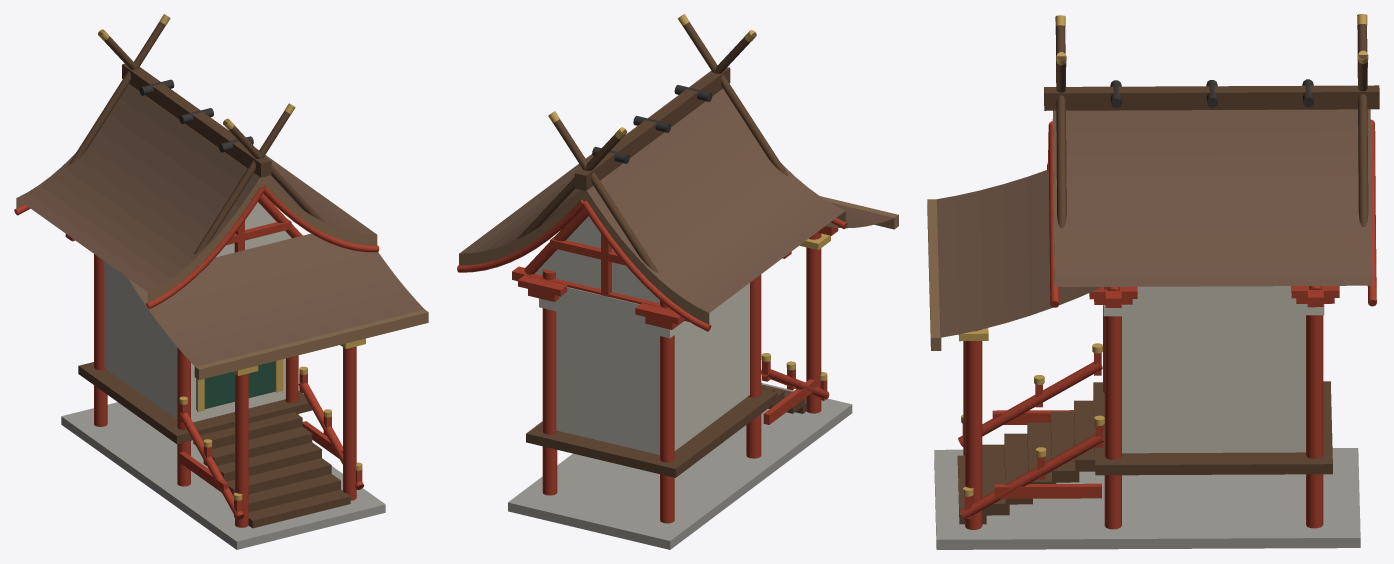
File: kasuga-honden-1.glb
3 views of the same model, side by side, from view 1: azimuth 30°, elevation 25°; view 2: azimuth 150°, elevation 25°; view 3: azimuth 270°, elevation 25° (orthographic). The views are drawn at different scales.
Bounding box in the file's own units: 4.17 × 6.49 × 5.65.
